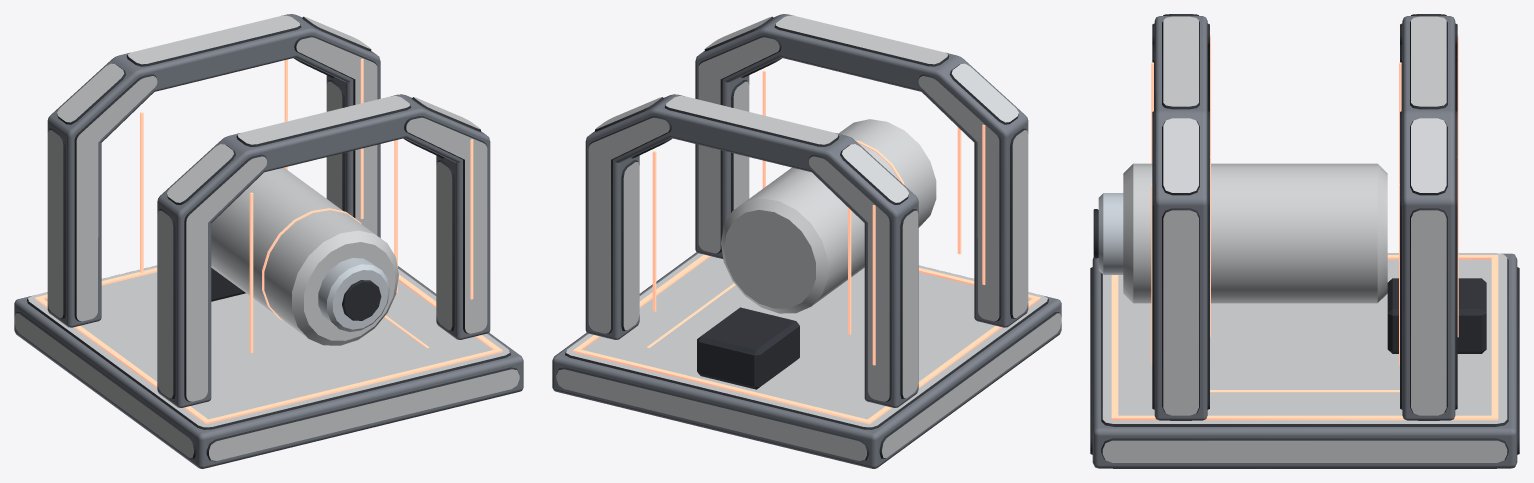
The model's file is R4X_WeaponDurabilityBooster.fbx.
The picture shows the model from 3 angles, left to right: view 1: azimuth 30°, elevation 25°; view 2: azimuth 150°, elevation 25°; view 3: azimuth 270°, elevation 25°; orthographic projection. The views are drawn at different scales.
Parts seen in each view (by area): view 1: R4X_WeaponDurabilityBooster_Body; view 2: R4X_WeaponDurabilityBooster_Body; view 3: R4X_WeaponDurabilityBooster_Body.
Boxes of the visible parts, x1,y1,x2,y2 form: R4X_WeaponDurabilityBooster_Body: (14, 14, 523, 468); R4X_WeaponDurabilityBooster_Body: (552, 14, 1061, 468); R4X_WeaponDurabilityBooster_Body: (1090, 14, 1519, 468).
Size of the model in its own units: 0.52 by 0.43 by 0.52.
